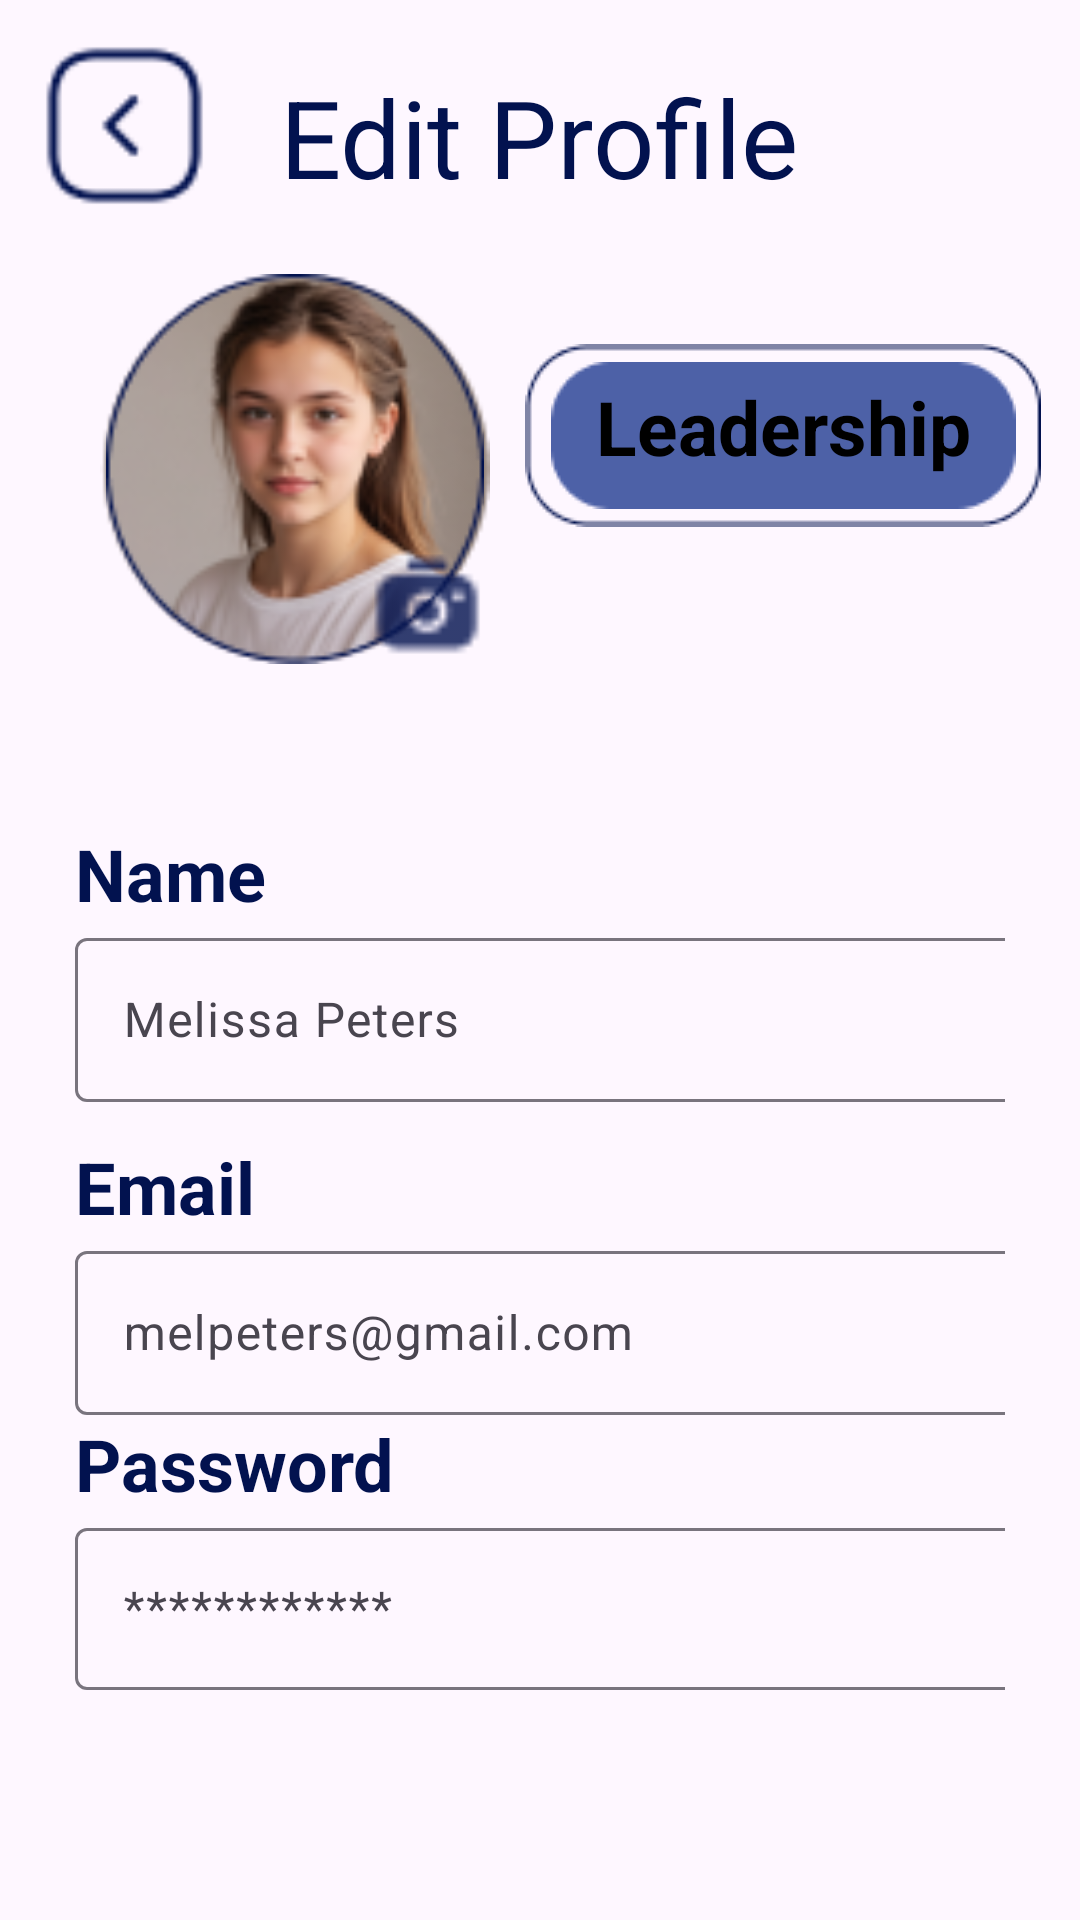

Icons on this 1080x1920 Android screen, each with its box as (x1, y1, x2, y2):
back: (46, 47, 203, 204)
